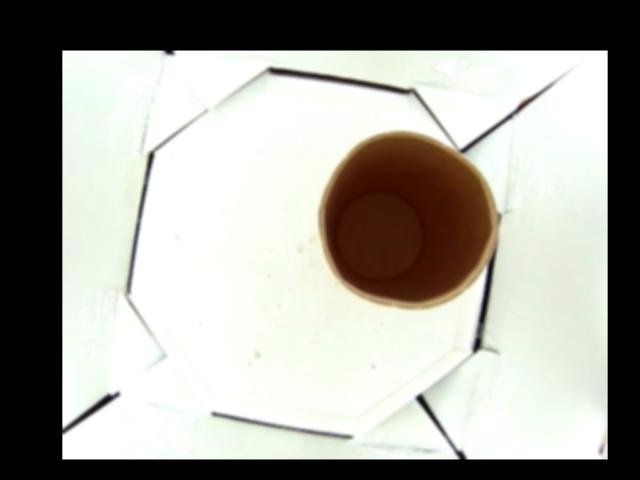Cup: (316, 131, 497, 306)
